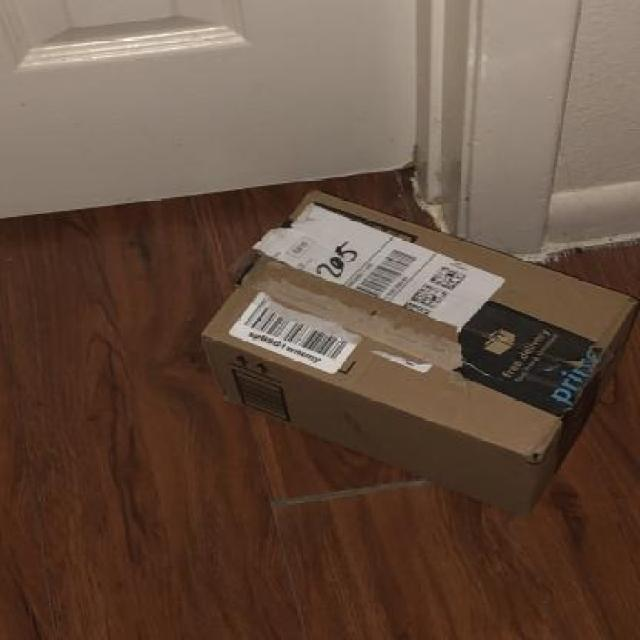cardboxes: (199, 187, 639, 521)
